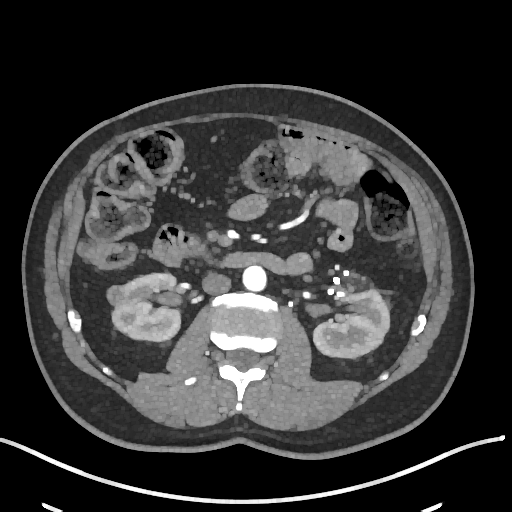Lesion: (103, 283, 128, 307)
